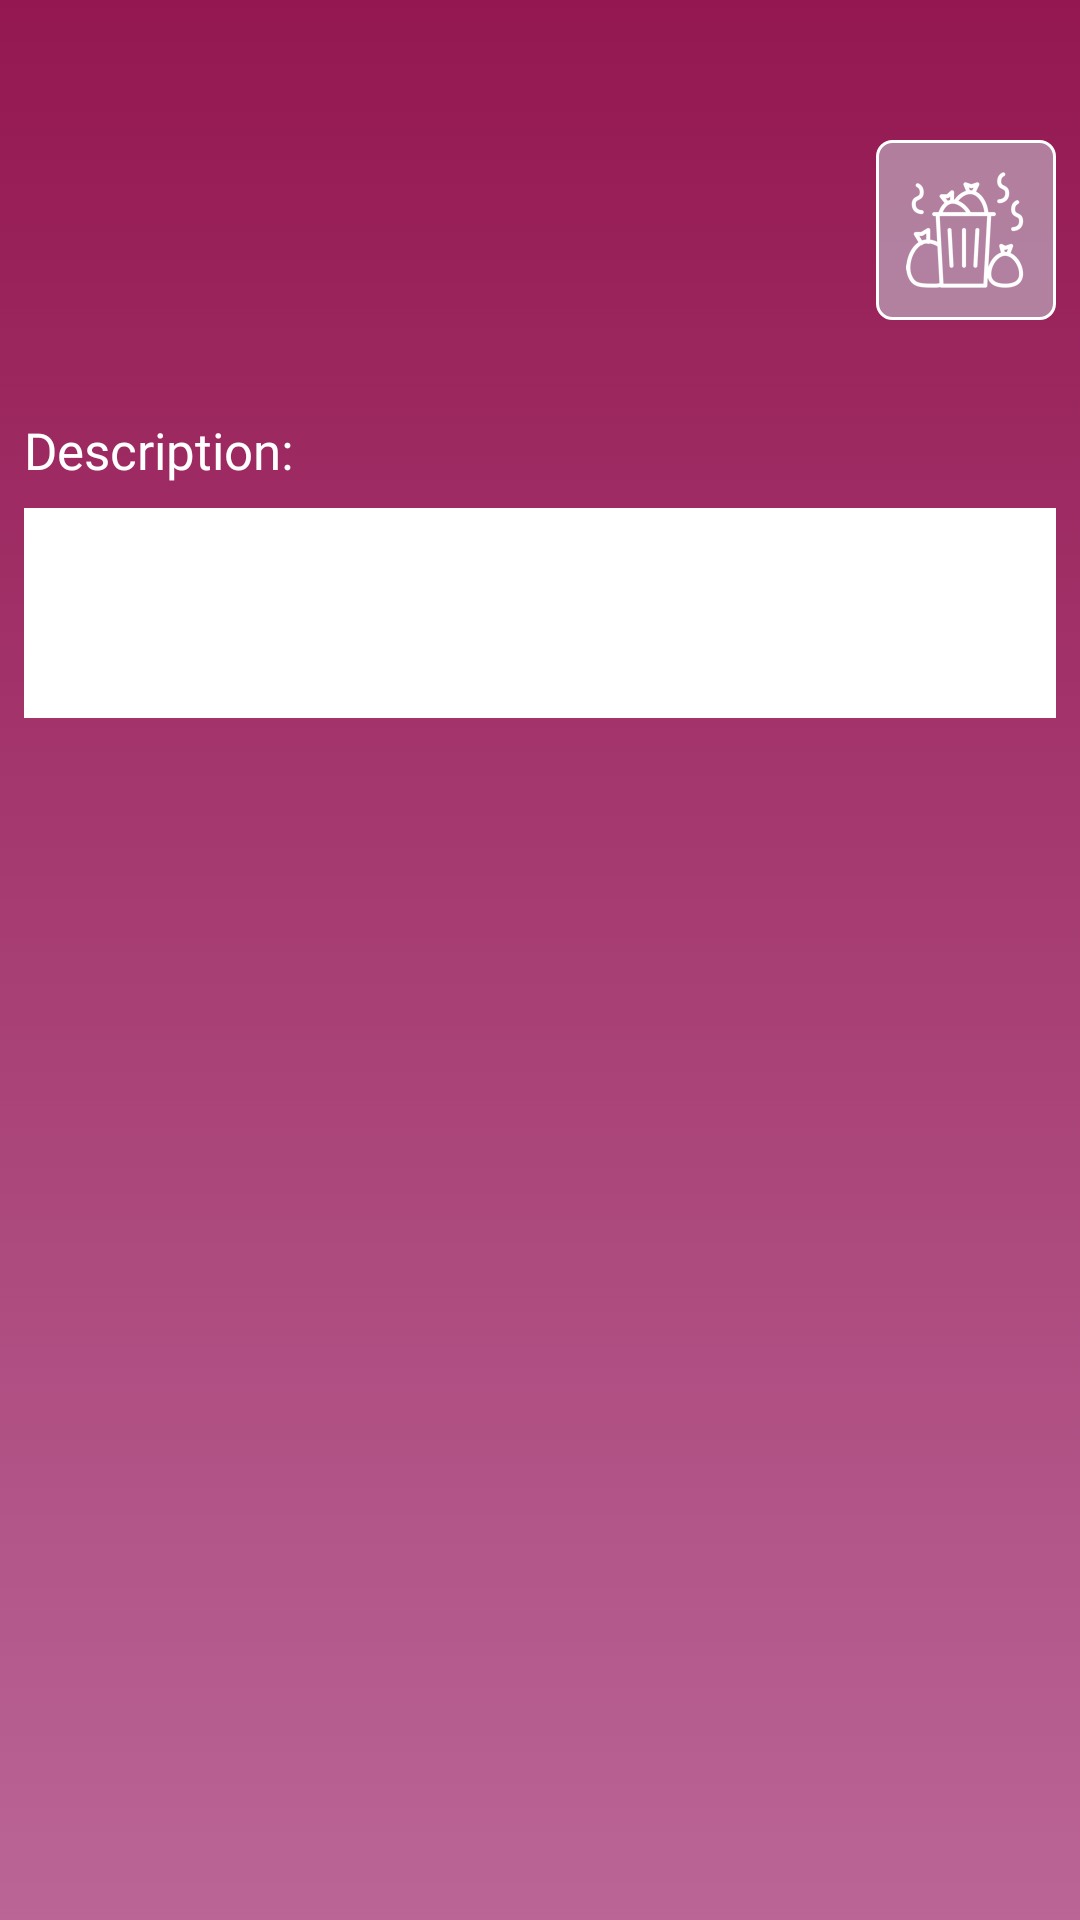

Icon bounding boxes for this 1080x1920 phone screenshot, format [x1=x1, y1=y1, x2=x2, y2=y2]:
dump trash: [x1=876, y1=140, x2=1056, y2=320]
